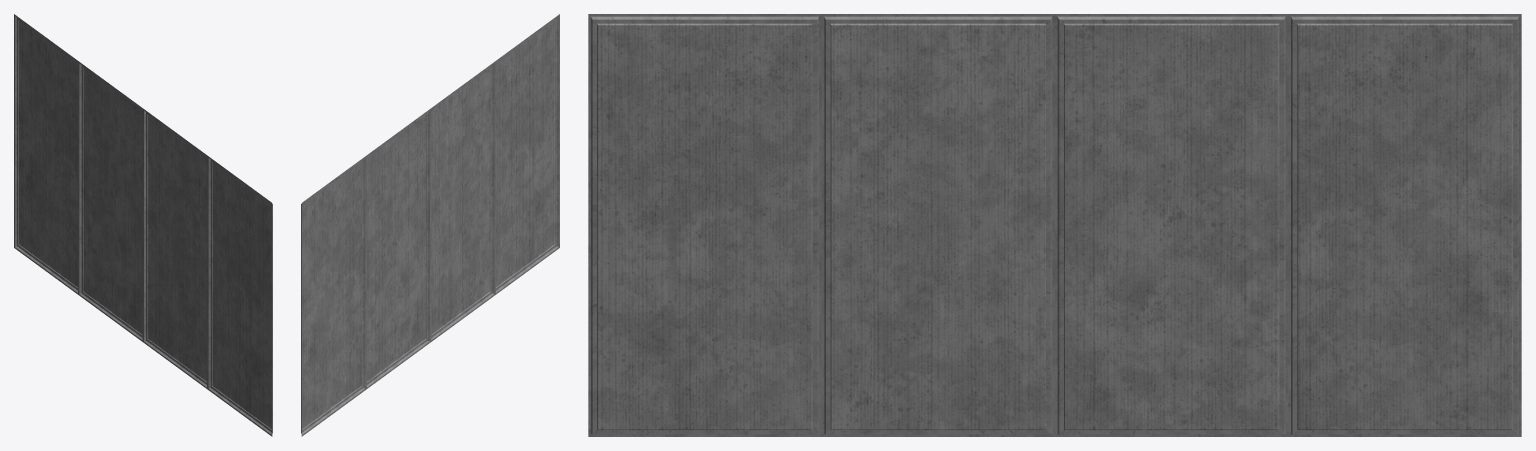
File: SM_Wall_11.fbx
3 renders of one model, left to right at view 1: azimuth 30°, elevation 25°; view 2: azimuth 150°, elevation 25°; view 3: azimuth 270°, elevation 25°, orthographic. The views are drawn at different scales.
Visible parts, largest first — view 1: SM_Wall_11; view 2: SM_Wall_11; view 3: SM_Wall_11.
Part boxes in pixels (box(x1,y1,x2,y2)): SM_Wall_11: box(14, 14, 272, 436); SM_Wall_11: box(301, 14, 559, 436); SM_Wall_11: box(588, 14, 1521, 436).
Bounding box in the file's own units: 4.21 × 400 × 800.
